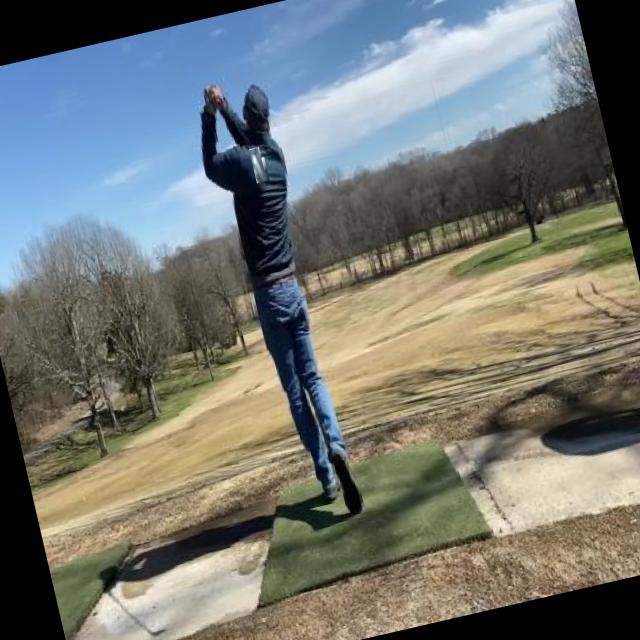club head: (249, 146, 269, 183)
